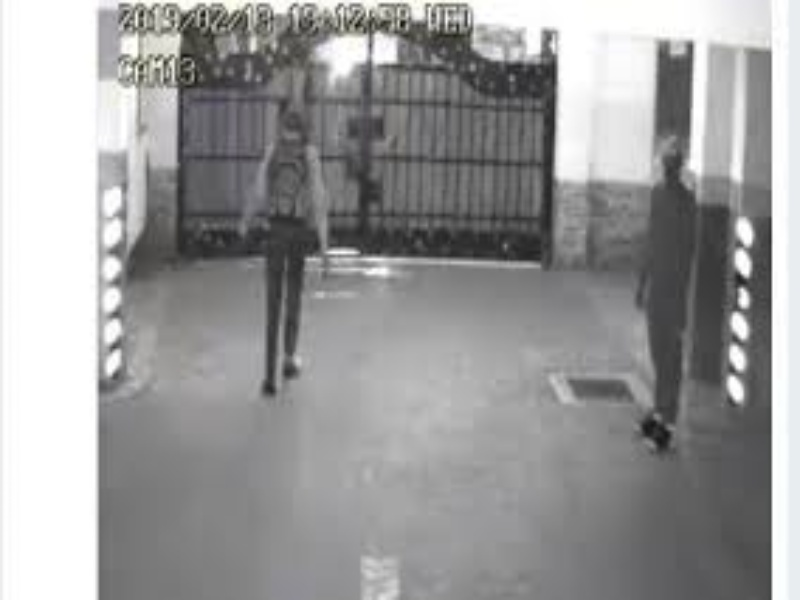person: (240, 103, 337, 414), (626, 131, 704, 461)
